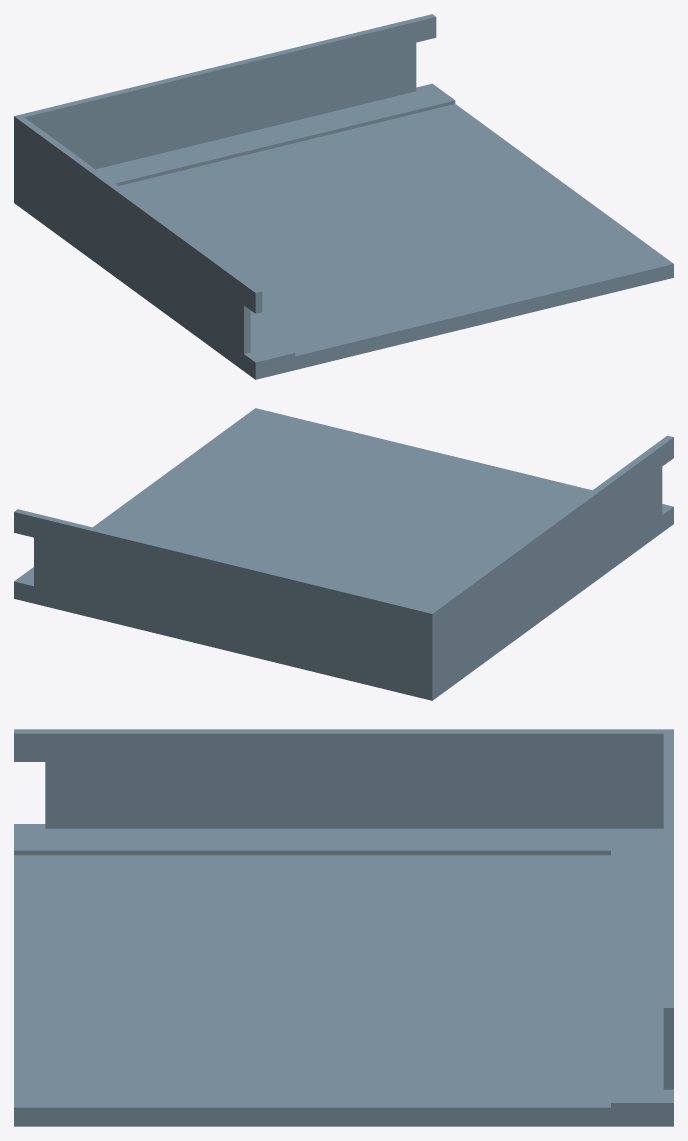
File: monu1-1.obj
3 renders of one model, top to bottom at view 1: azimuth 30°, elevation 25°; view 2: azimuth 150°, elevation 25°; view 3: azimuth 270°, elevation 25°, orthographic. The views are drawn at different scales.
Size of the model in its own units: 12.6 by 2.5 by 12.6.
Materials: 1 (1 with a texture image).
